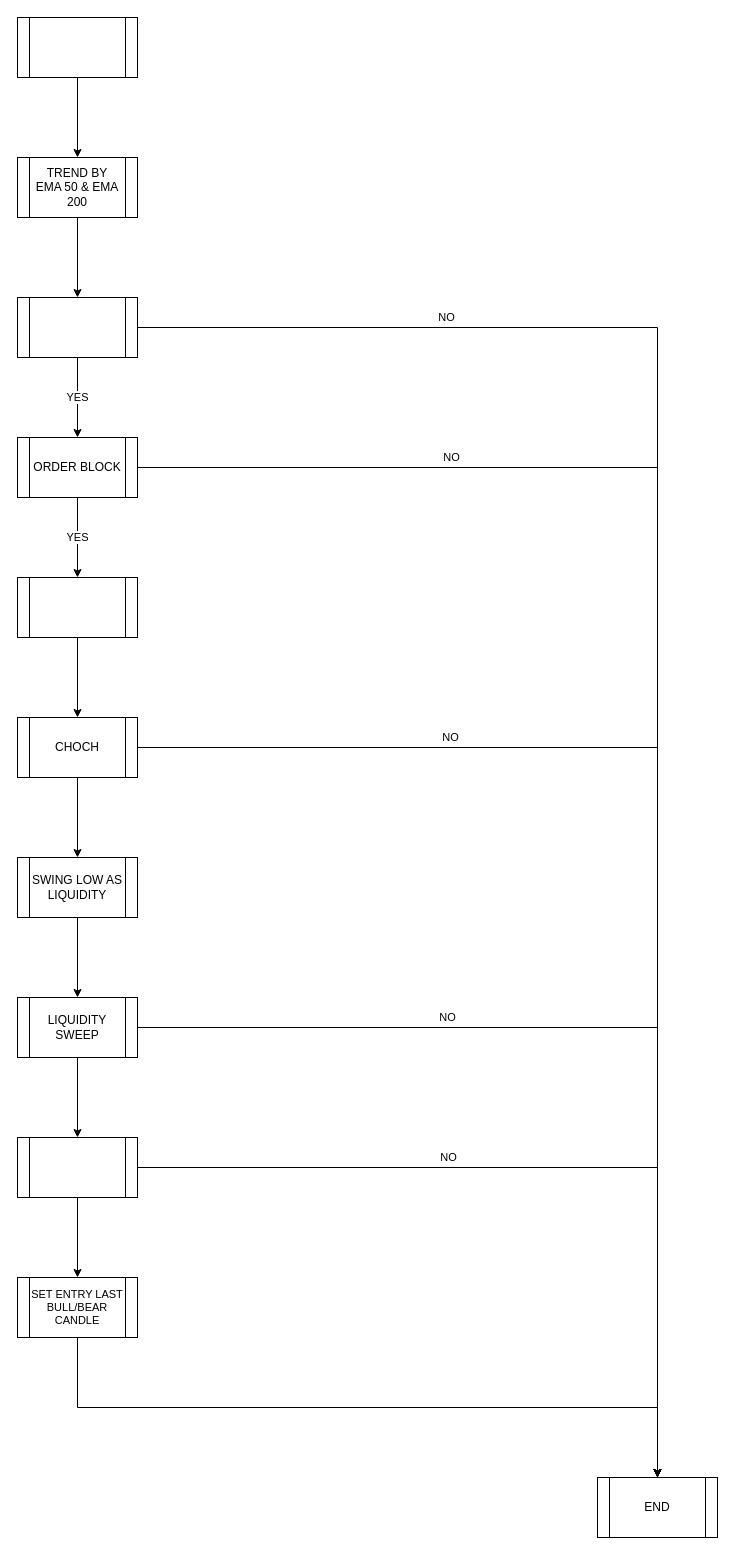
Some shapes in this 735 by 1555 pixel diagram are drawn without their labels. Each missing label, with the centre of its shape:
"BOS" belongs at [77,327].
"FVG/IMB" belongs at [77,1167].
"LOWER TF" belongs at [77,607].
"START" belongs at [77,47].
